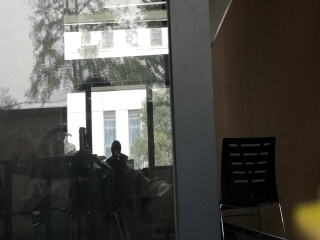room: (5, 2, 303, 240)
